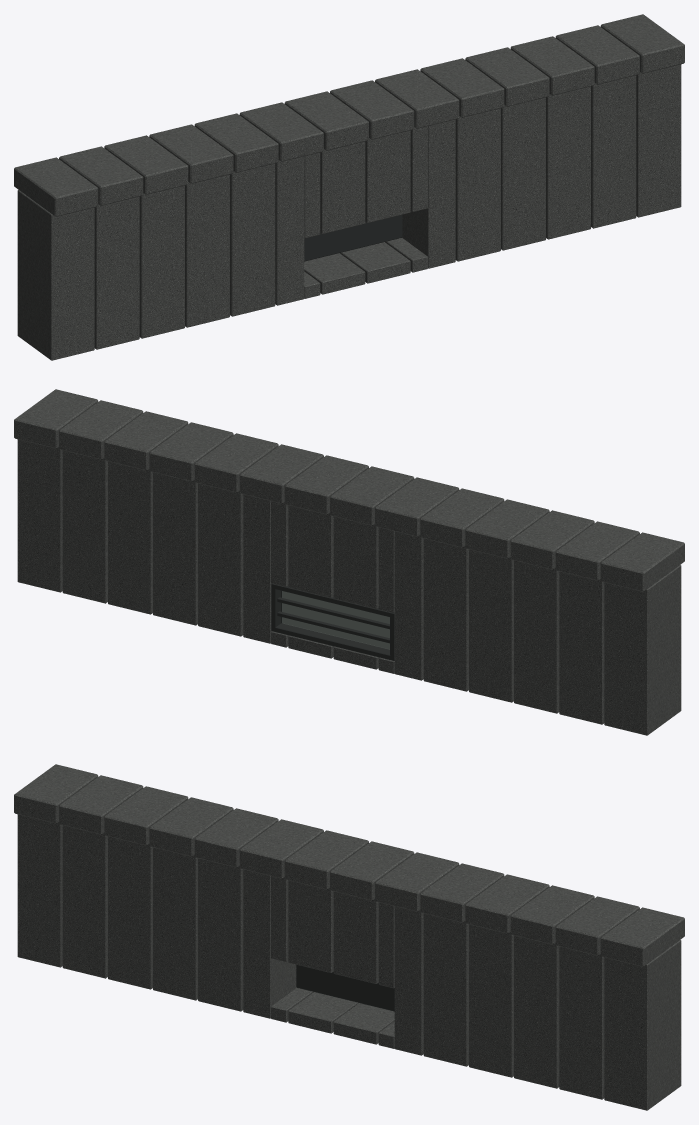
The model's file is hachiko_stone_front_module.glb.
3 views of the same model, one above another, from view 1: azimuth 30°, elevation 25°; view 2: azimuth 150°, elevation 25°; view 3: azimuth 330°, elevation 25° (orthographic).
Visible parts, largest first — view 1: hachiko_front_granite_procedural, hachiko_front_fixture_frame; view 2: hachiko_front_granite_procedural, hachiko_front_fixture_frame, hachiko_front_fixture_diffuser; view 3: hachiko_front_granite_procedural, hachiko_front_fixture_frame.
Boxes of the visible parts, left/top/right/bottom form: hachiko_front_granite_procedural: left=14, top=14, right=684, bottom=360; hachiko_front_fixture_frame: left=304, top=214, right=402, bottom=261; hachiko_front_granite_procedural: left=14, top=389, right=684, bottom=735; hachiko_front_fixture_frame: left=271, top=583, right=394, bottom=660; hachiko_front_fixture_diffuser: left=282, top=591, right=389, bottom=649; hachiko_front_granite_procedural: left=14, top=764, right=684, bottom=1110; hachiko_front_fixture_frame: left=296, top=964, right=394, bottom=1011.
Size of the model in its own units: 2.34 by 0.59 by 0.27.
3 materials, 1 textured.
